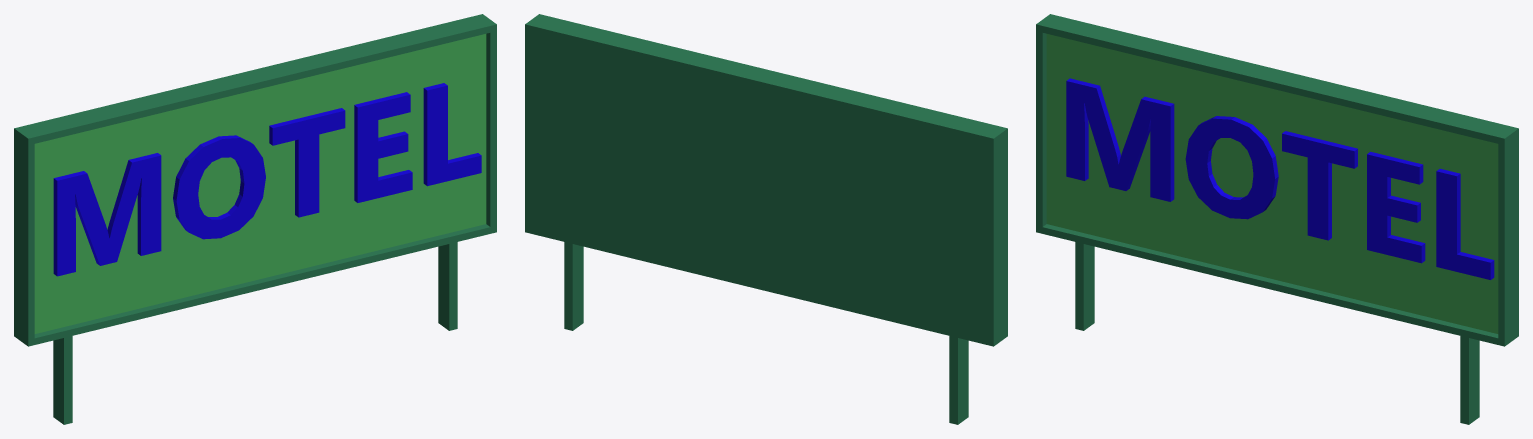
Rendered from Motel_Sign_01.gltf.
The picture shows the model from 3 angles, left to right: view 1: azimuth 30°, elevation 25°; view 2: azimuth 150°, elevation 25°; view 3: azimuth 330°, elevation 25°; orthographic projection.
Visible parts, largest first — view 1: Motel_Sign_01; view 2: Motel_Sign_01; view 3: Motel_Sign_01.
Part boxes in pixels (bbox=[...]): Motel_Sign_01: bbox=[14, 14, 496, 424]; Motel_Sign_01: bbox=[525, 14, 1007, 424]; Motel_Sign_01: bbox=[1036, 14, 1518, 424].
Bounding box in the file's own units: 3 × 1.82 × 0.1575.
